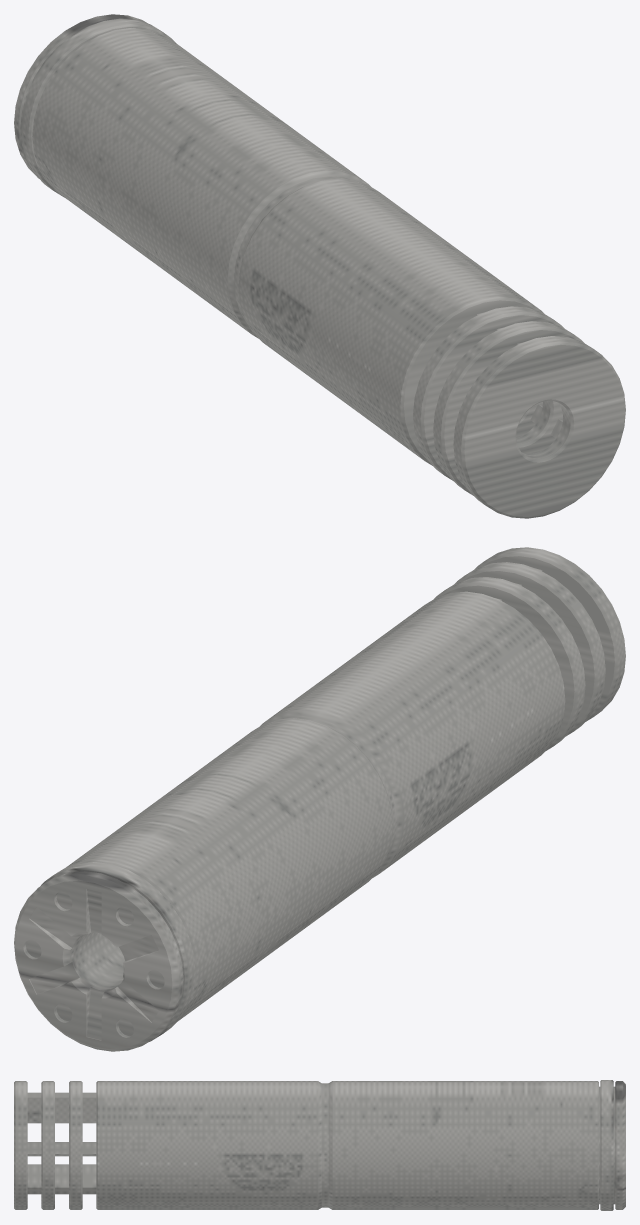
The model's file is Att-suppressor-omega-300.glb.
The picture shows the model from 3 angles, top to bottom: view 1: azimuth 30°, elevation 25°; view 2: azimuth 150°, elevation 25°; view 3: azimuth 270°, elevation 25°; orthographic projection. The views are drawn at different scales.
Visible parts, largest first — view 1: on-set; view 2: on-set; view 3: on-set.
Part boxes in pixels (x1,y1,x2,y2): on-set: [14, 14, 625, 518]; on-set: [14, 547, 625, 1051]; on-set: [14, 1080, 625, 1210].
Size of the model in its own units: 0.7904 by 0.7904 by 3.69.
Materials: 3 (3 with a texture image).
